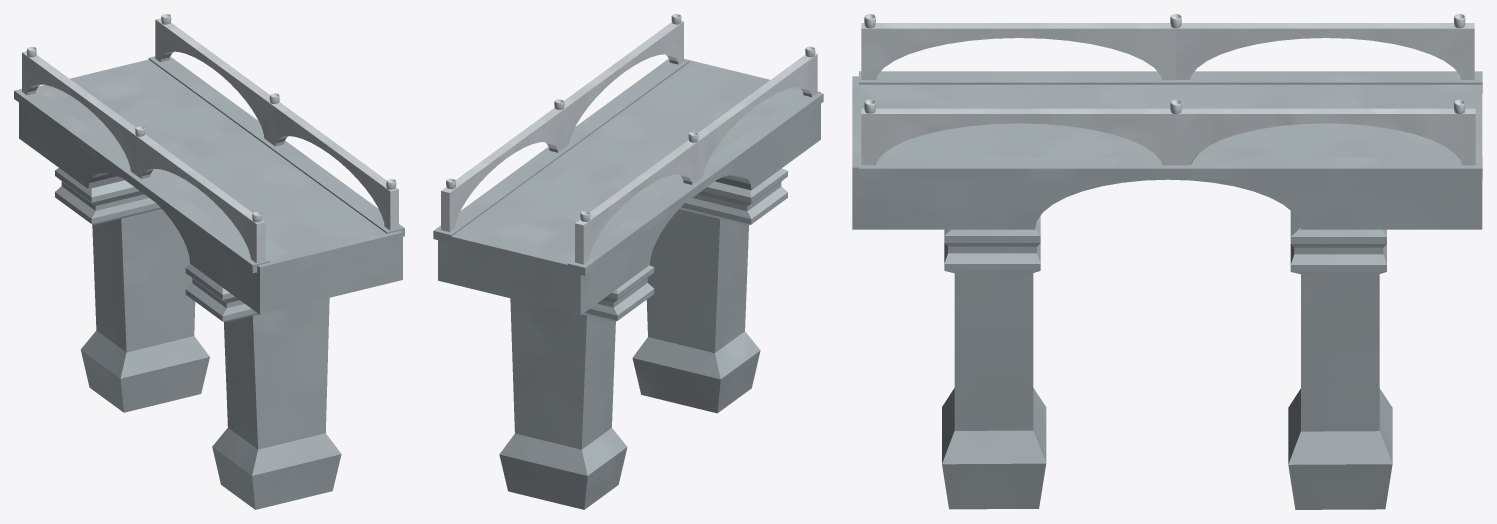
File: Bridge.fbx
3 views of the same model, side by side, from view 1: azimuth 30°, elevation 25°; view 2: azimuth 150°, elevation 25°; view 3: azimuth 270°, elevation 25° (orthographic). The views are drawn at different scales.
Visible parts, largest first — view 1: Bridge; view 2: Bridge; view 3: Bridge.
Boxes of the visible parts, <box> form: Bridge: <box>14,14,404,509</box>; Bridge: <box>433,14,823,509</box>; Bridge: <box>852,14,1482,509</box>.
Size of the model in its own units: 417 by 852 by 1144.
